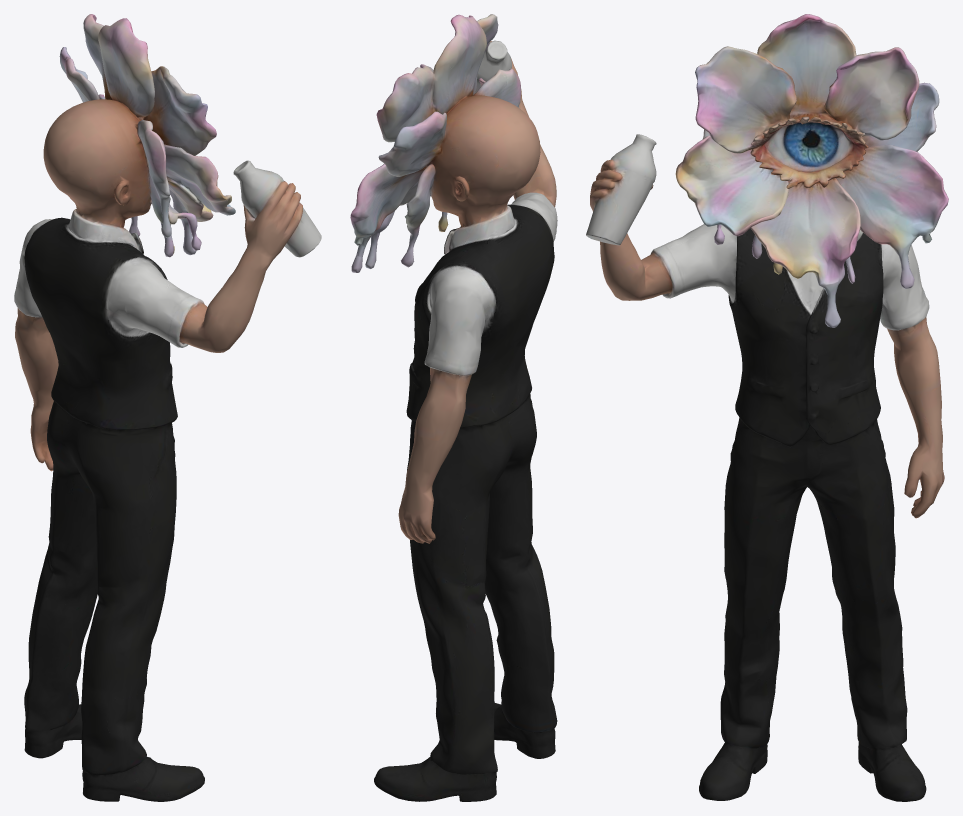
File: bartender.glb
3 renders of one model, left to right at view 1: azimuth 30°, elevation 25°; view 2: azimuth 150°, elevation 25°; view 3: azimuth 270°, elevation 25°, orthographic. The views are drawn at different scales.
Visible parts, largest first — view 1: tripo_node_8f611393-628a-4c04-9a16-76a25f729728; view 2: tripo_node_8f611393-628a-4c04-9a16-76a25f729728; view 3: tripo_node_8f611393-628a-4c04-9a16-76a25f729728.
Boxes of the visible parts, bbox=[...] form: tripo_node_8f611393-628a-4c04-9a16-76a25f729728: bbox=[14, 14, 321, 801]; tripo_node_8f611393-628a-4c04-9a16-76a25f729728: bbox=[350, 14, 557, 801]; tripo_node_8f611393-628a-4c04-9a16-76a25f729728: bbox=[586, 14, 948, 801].
Bounding box in the file's own units: 0.2433 × 1 × 0.4231.
Materials: 1 (1 with a texture image).
